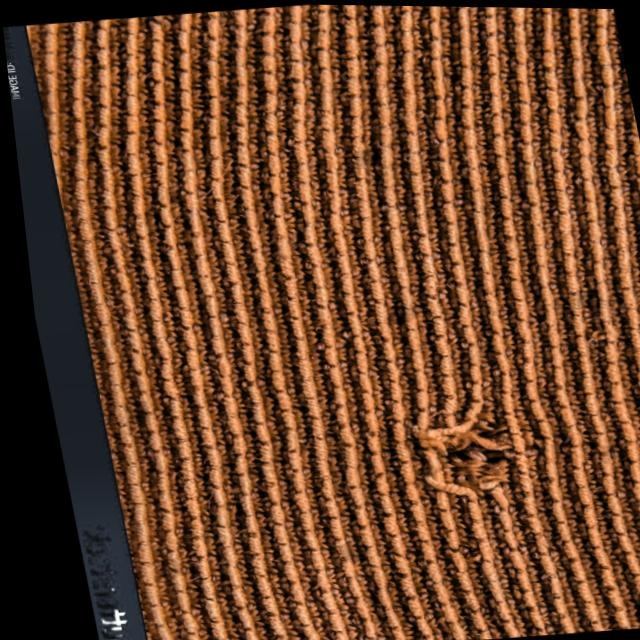Hole: (369, 362, 560, 538)
